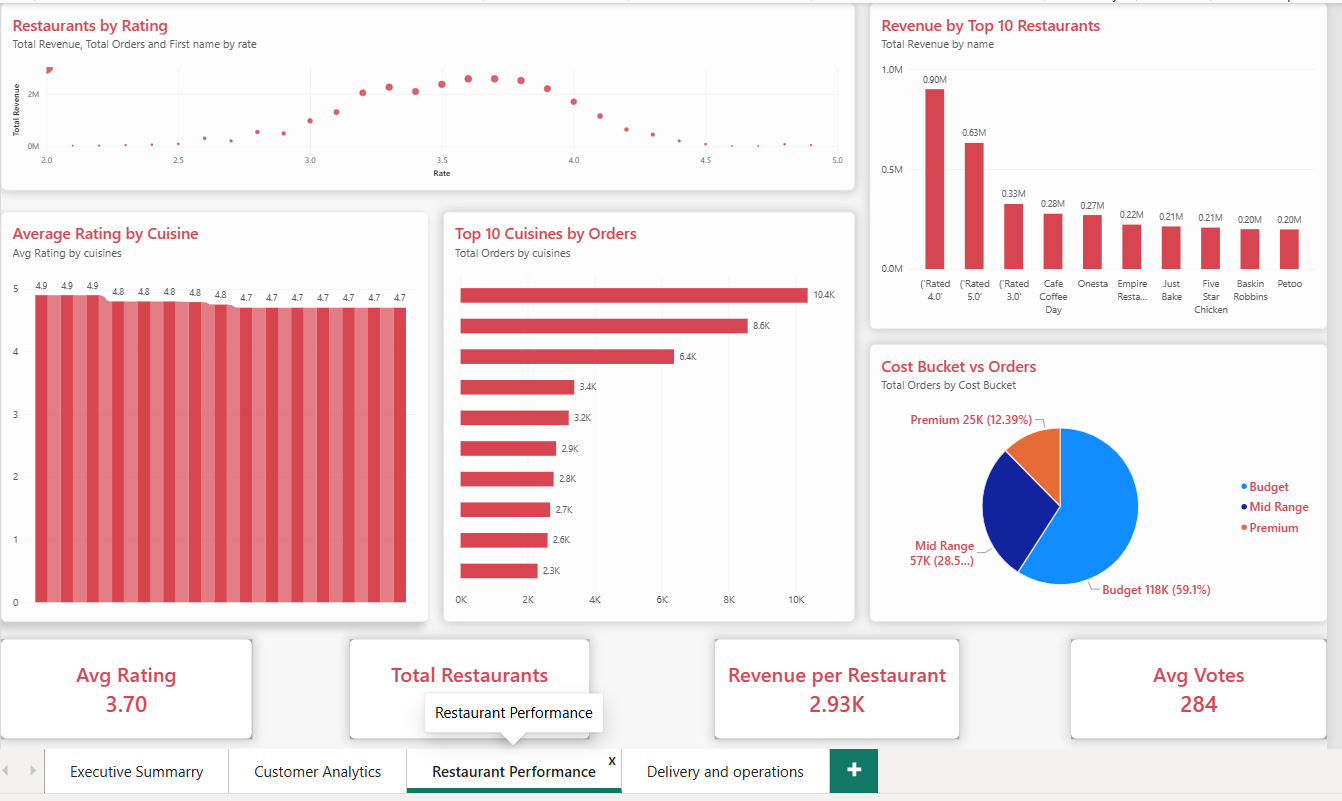

This screenshot's page, from the dashboard's own definition file:
{"tool":"powerbi","page":{"name":"Restaurant Performance","canvas":[1920,1080],"ordinal":2},"visuals":[{"type":"cardVisual","fields":{"Data":["Orders.Total Restaurants"]},"box":[504.9,921.1,347.5,144.8],"z":0},{"type":"barChart","title":"Top 10 Cuisines by Orders","fields":{"Category":["Restaurants.cuisines"],"Y":["Orders.Total Orders"]},"box":[640.6,302.2,595.4,593.6],"z":1000},{"type":"clusteredColumnChart","title":"Revenue by Top 10 Restaurants","fields":{"Category":["Restaurants.name"],"Y":["Orders.Total Revenue"]},"box":[1257.7,0,662.3,472.3],"z":2000},{"type":"cardVisual","fields":{"Data":["Orders.Avg Rating"]},"box":[0,921.1,363.7,144.8],"z":3000},{"type":"cardVisual","fields":{"Data":["Orders.Avg Votes"]},"box":[1549.1,921.1,371,144.8],"z":4000},{"type":"cardVisual","fields":{"Data":["Orders.Revenue per Restaurant"]},"box":[1033.3,921.1,354.7,144.8],"z":5000},{"type":"columnChart","title":"Average Rating by Cuisine","fields":{"Category":["Restaurants.cuisines"],"Y":["Orders.Avg Rating"]},"box":[0,302.2,618.9,593.6],"z":6000},{"type":"scatterChart","title":"Restaurants by Rating","fields":{"Size":["Orders.Total Orders"],"X":["Restaurants.rate"],"Y":["Orders.Total Revenue"]},"box":[0,0,1236,271.4],"z":7000},{"type":"pieChart","title":"Cost Bucket vs Orders","fields":{"Category":["Restaurants.Cost Bucket"],"Y":["Orders.Total Orders"]},"box":[1257.7,494,662.3,401.7],"z":8000}]}

Visuals, with their boxes on the page's 1920x1080 design canvas (x1, y1, x2, y2). These are canvas units, not pixel positions in the 1342x801 screenshot, which may show the page scaled, cropped or inside an application window:
cardVisual - Orders.Total Restaurants: pyautogui.locateOnScreen(505, 921, 852, 1066)
"Top 10 Cuisines by Orders" barChart: pyautogui.locateOnScreen(641, 302, 1236, 896)
"Revenue by Top 10 Restaurants" clusteredColumnChart: pyautogui.locateOnScreen(1258, 0, 1920, 472)
cardVisual - Orders.Avg Rating: pyautogui.locateOnScreen(0, 921, 364, 1066)
cardVisual - Orders.Avg Votes: pyautogui.locateOnScreen(1549, 921, 1920, 1066)
cardVisual - Orders.Revenue per Restaurant: pyautogui.locateOnScreen(1033, 921, 1388, 1066)
"Average Rating by Cuisine" columnChart: pyautogui.locateOnScreen(0, 302, 619, 896)
"Restaurants by Rating" scatterChart: pyautogui.locateOnScreen(0, 0, 1236, 271)
"Cost Bucket vs Orders" pieChart: pyautogui.locateOnScreen(1258, 494, 1920, 896)
